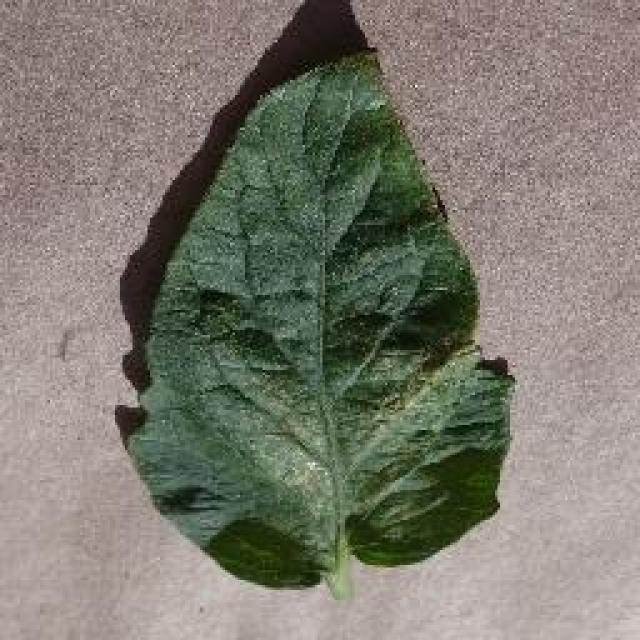Tomato mosaic virus leaf: (125, 46, 517, 589)
